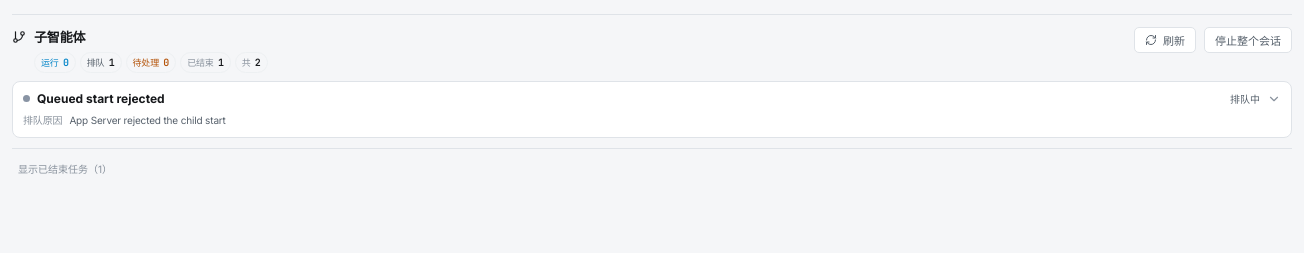
ChildTasksPane › shows a rejected start reason for queued and cancelled children
Expected: the text "App Server rejected the child start" is shown, [69,114,226,126]
Click the button "显示已结束任务（1）" at (65, 168), box [12,156,118,180]
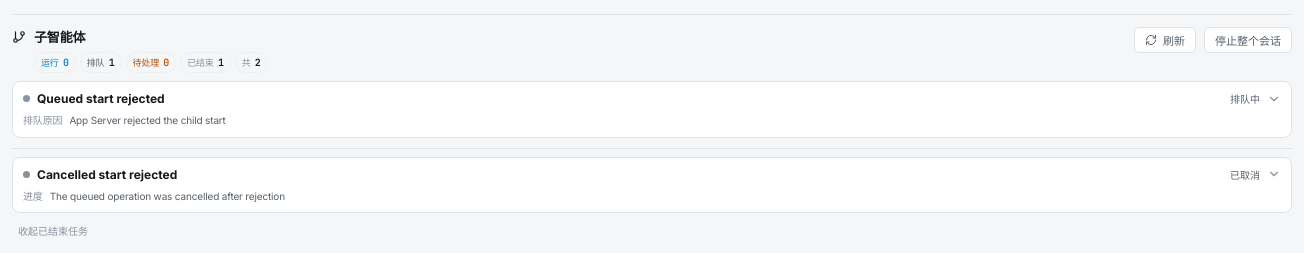
Result: the text "The queued operation was cancelled after rejection" is shown at [50,190,285,202]
